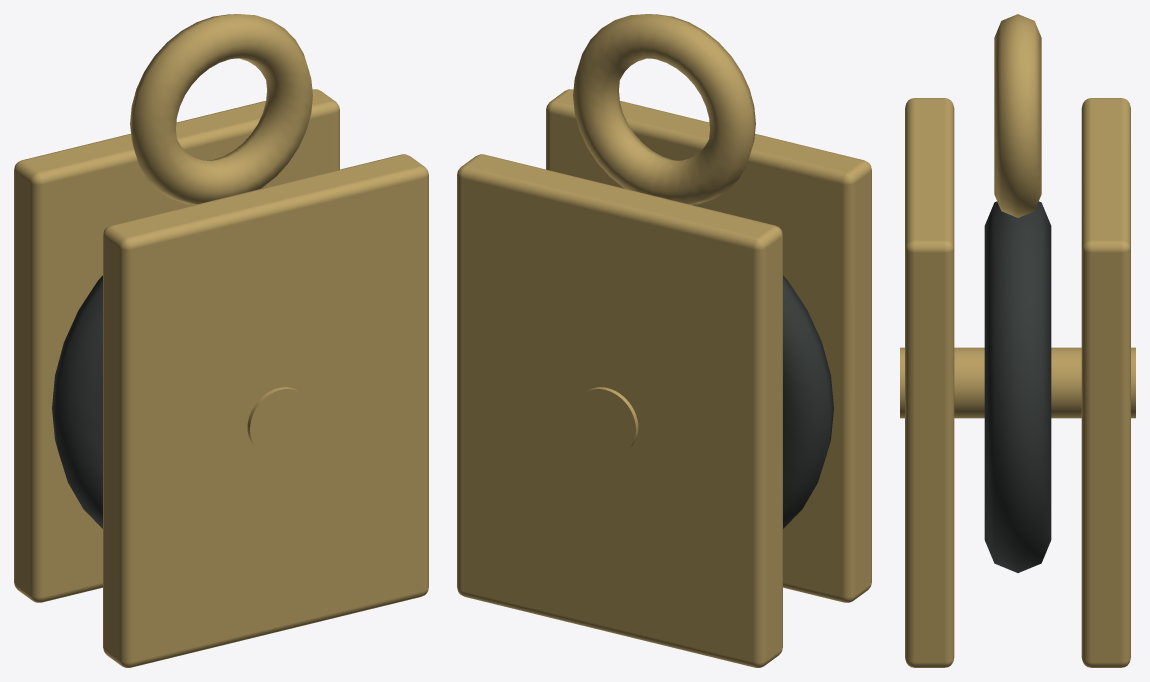
Rendered from abandoned-puppet-theatre-and-prop-vault-curtain-pulley-f6b2de5c__31065.glb.
3 renders of one model, left to right at view 1: azimuth 30°, elevation 25°; view 2: azimuth 150°, elevation 25°; view 3: azimuth 270°, elevation 25°, orthographic.
Parts seen in each view (by area): view 1: curtain-pulley-block; view 2: curtain-pulley-block; view 3: curtain-pulley-block.
Part boxes in pixels (left/top/right/bottom): curtain-pulley-block: left=14, top=14, right=428, bottom=667; curtain-pulley-block: left=457, top=14, right=871, bottom=667; curtain-pulley-block: left=900, top=14, right=1135, bottom=667.
Size of the model in its own units: 0.194 by 0.322 by 0.12.
